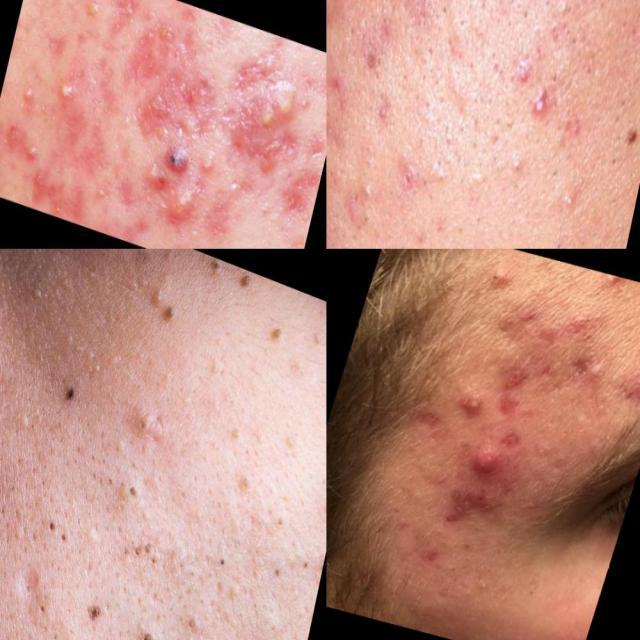Pimples: (130, 64, 204, 139), (474, 356, 547, 432), (220, 126, 283, 180), (276, 156, 322, 227), (120, 24, 160, 94), (459, 437, 511, 489), (108, 598, 172, 640), (497, 146, 542, 198), (37, 504, 80, 557), (526, 82, 561, 140), (556, 302, 602, 342), (122, 526, 156, 576), (346, 202, 382, 246), (134, 164, 172, 198), (476, 262, 512, 294), (617, 362, 640, 412), (46, 74, 78, 109), (302, 120, 326, 165), (170, 182, 193, 228), (156, 144, 188, 176), (456, 389, 490, 419), (0, 620, 41, 640), (275, 85, 297, 116), (77, 0, 104, 25), (546, 448, 576, 470), (196, 152, 219, 180), (255, 106, 277, 134), (20, 137, 40, 165), (452, 536, 480, 556), (156, 22, 175, 50), (446, 559, 464, 580), (152, 128, 166, 148)
